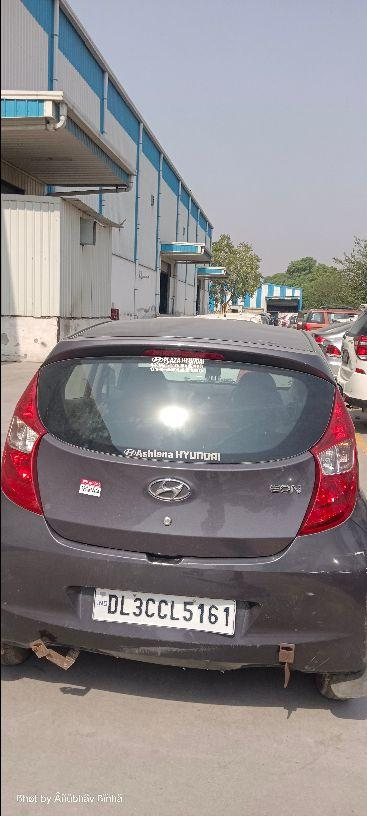license_plate: (90, 586, 236, 636)
